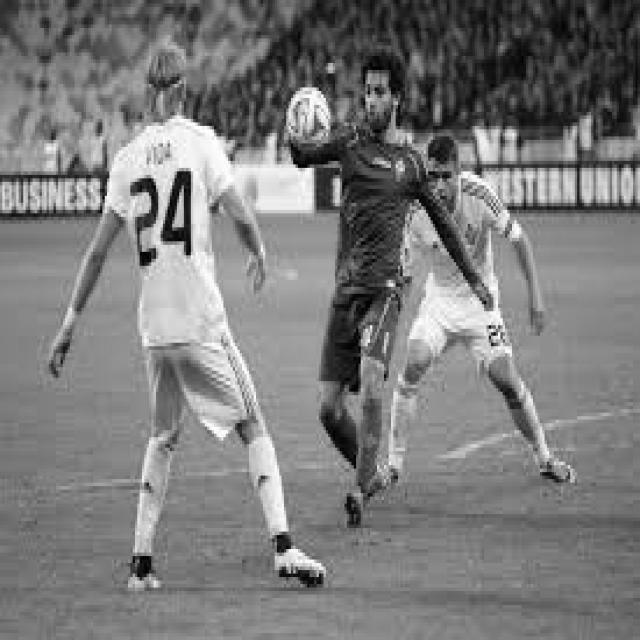football: (276, 78, 333, 155)
